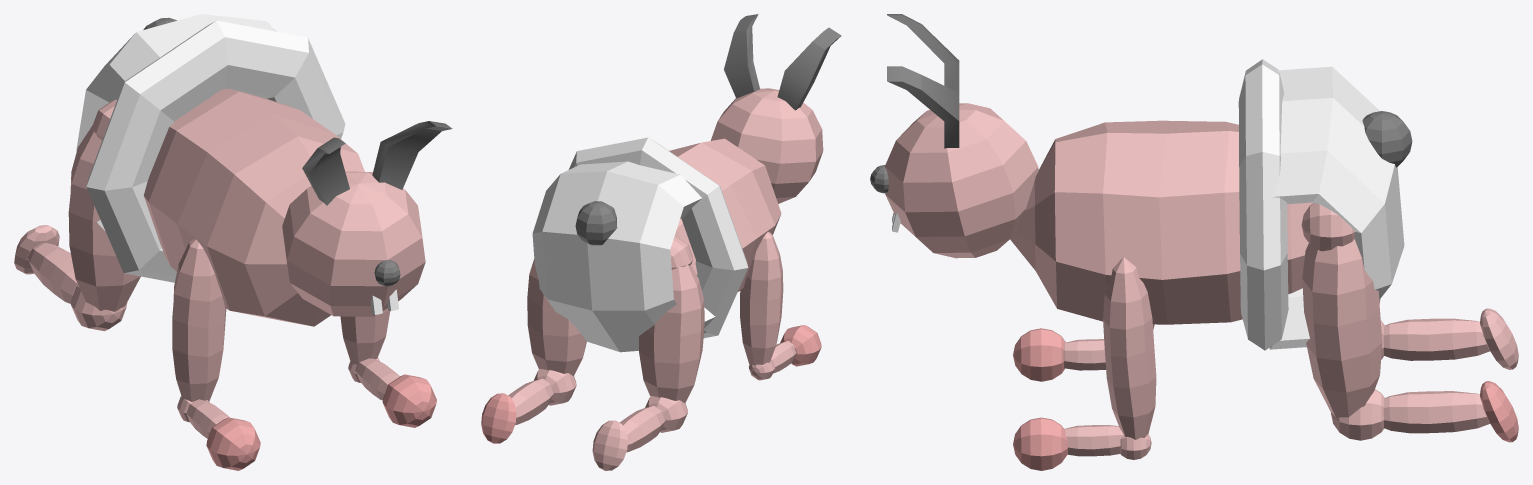
File: Bunny_Baby.fbx
The picture shows the model from 3 angles, left to right: view 1: azimuth 30°, elevation 25°; view 2: azimuth 150°, elevation 25°; view 3: azimuth 270°, elevation 25°; orthographic projection. The views are drawn at different scales.
Parts seen in each view (by area): view 1: M_Baby, Left_Bunny_Ear, Right_Bunny_Ear, Bunny_Nose; view 2: M_Baby, Right_Bunny_Ear, Left_Bunny_Ear, Bunny_tail; view 3: M_Baby, Left_Bunny_Ear, Bunny_tail, Right_Bunny_Ear.
Boxes of the visible parts, bbox=[...] form: M_Baby: bbox=[14, 14, 436, 470]; Left_Bunny_Ear: bbox=[372, 121, 452, 189]; Right_Bunny_Ear: bbox=[302, 137, 349, 205]; Bunny_Nose: bbox=[374, 260, 400, 286]; M_Baby: bbox=[481, 88, 823, 470]; Right_Bunny_Ear: bbox=[777, 27, 841, 110]; Left_Bunny_Ear: bbox=[724, 14, 759, 98]; Bunny_tail: bbox=[575, 201, 617, 245]; M_Baby: bbox=[884, 59, 1518, 470]; Left_Bunny_Ear: bbox=[887, 66, 959, 148]; Bunny_tail: bbox=[1362, 111, 1412, 167]; Right_Bunny_Ear: bbox=[887, 14, 959, 92].
Size of the model in its own units: 114 by 156 by 239.
